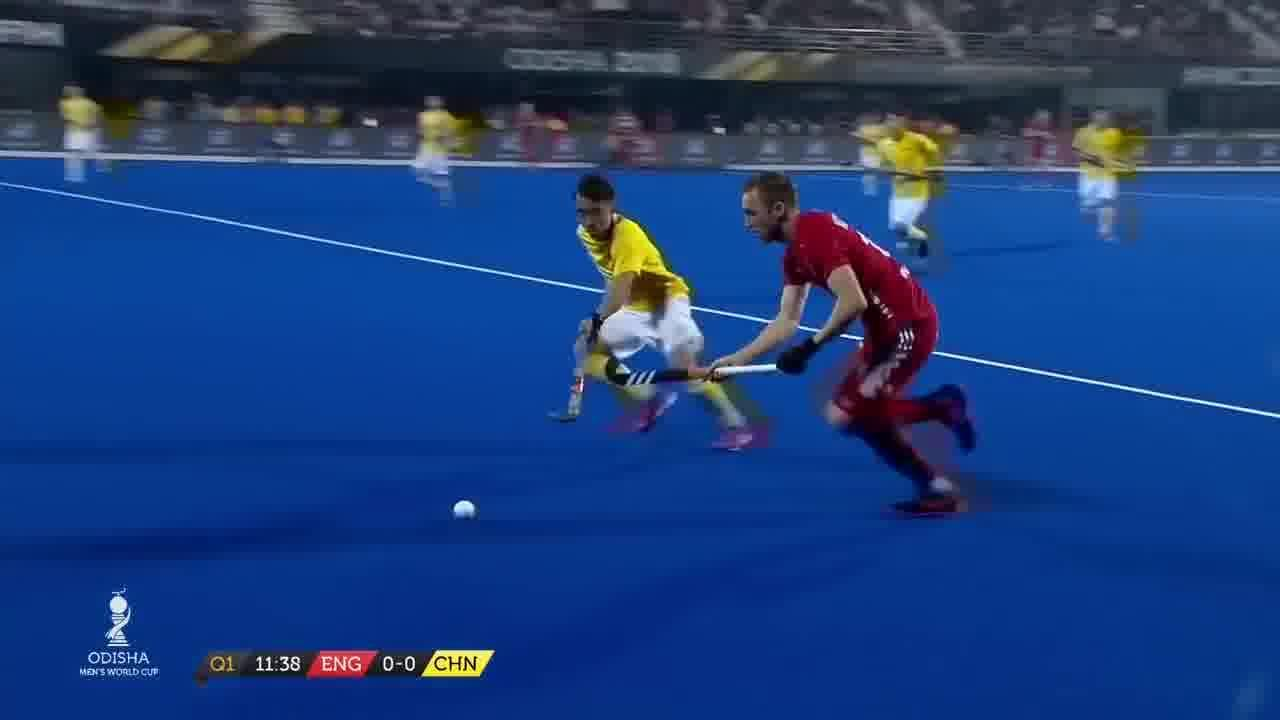ball: (451, 494, 480, 521)
